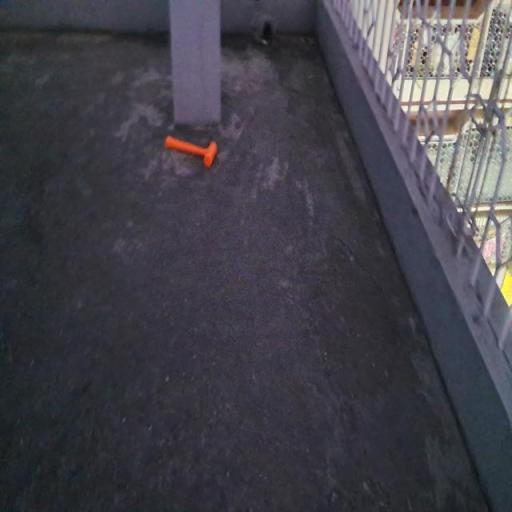mallet: (163, 132, 216, 168)
